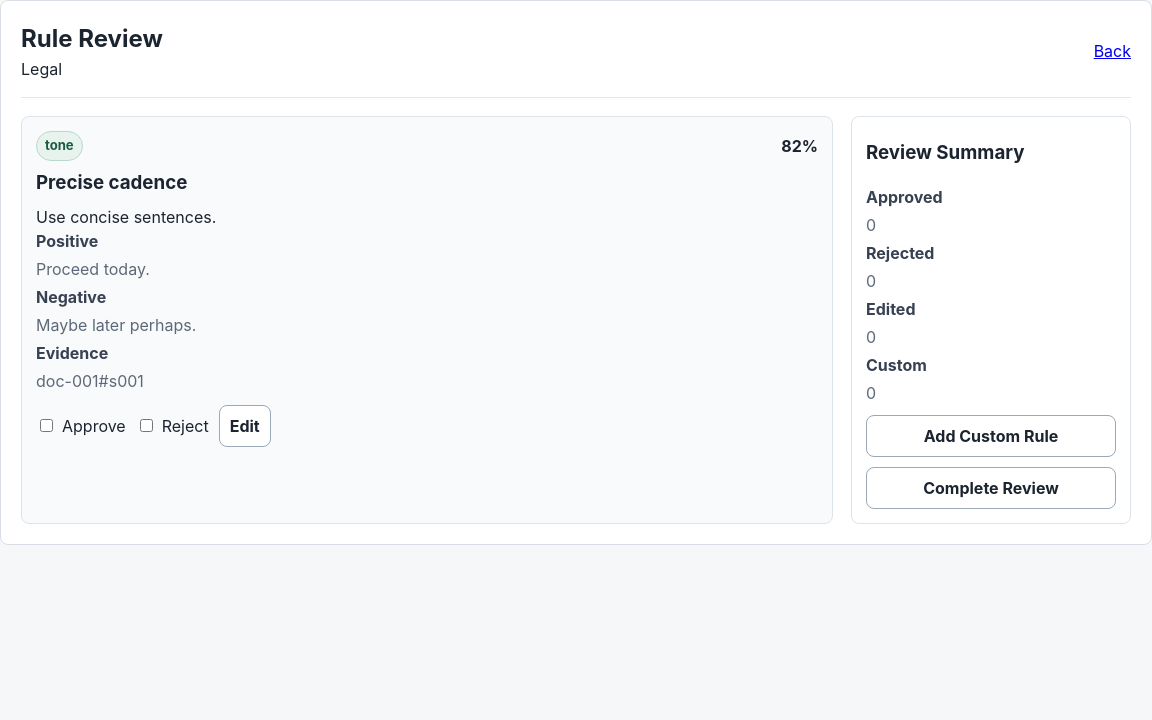
Test: RuleReviewPage › edit modal updates rule
Click the button "Edit" at (245, 426), box [219,405,271,447]
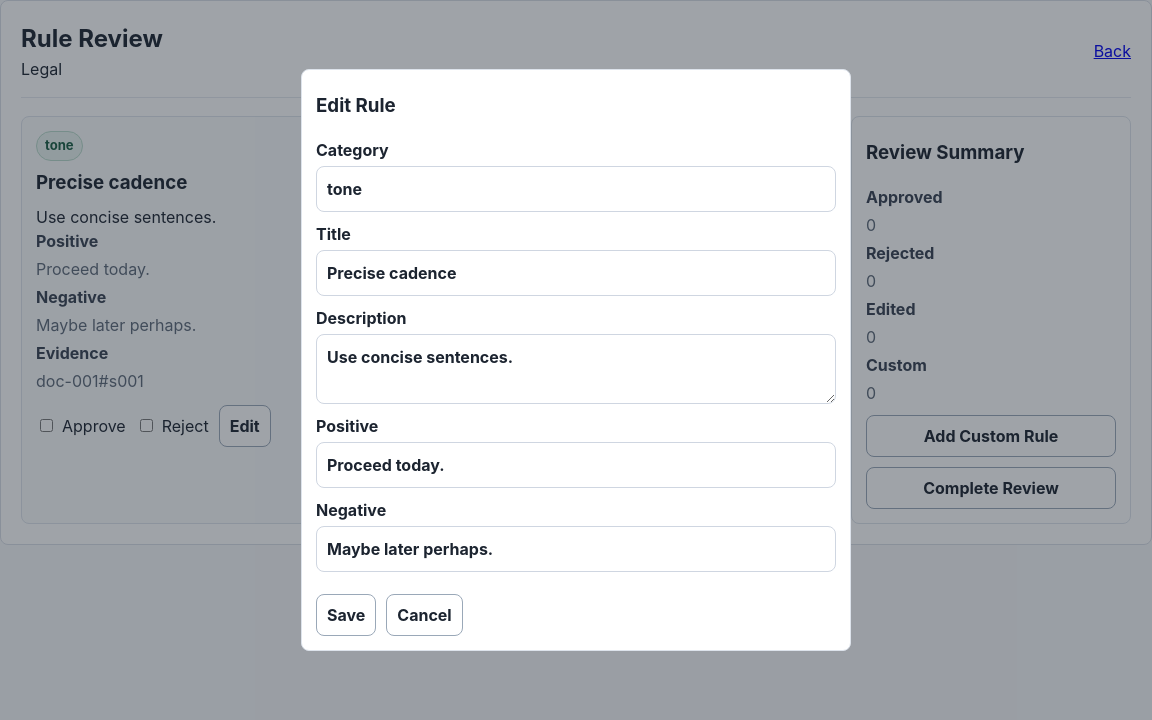
Replace the text in the field labelled "Title" with "Edited cadence" at (576, 273), box [316,250,836,296]
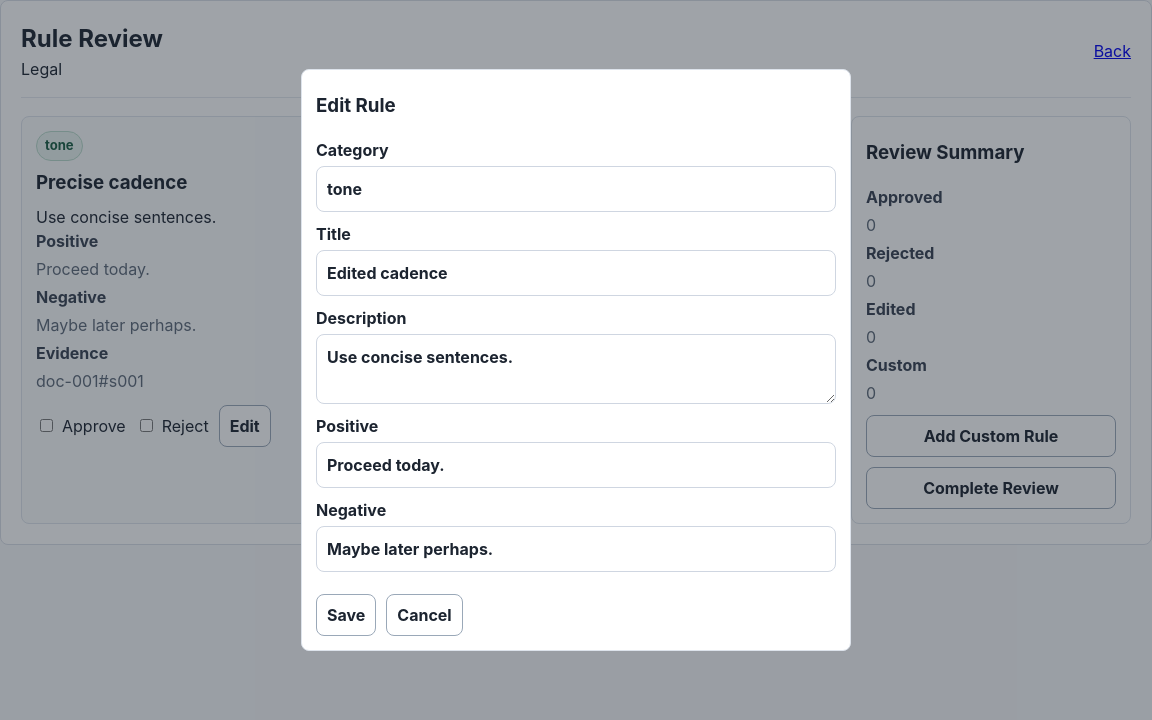
Click the button "Save" at (346, 615), box [316,594,376,636]
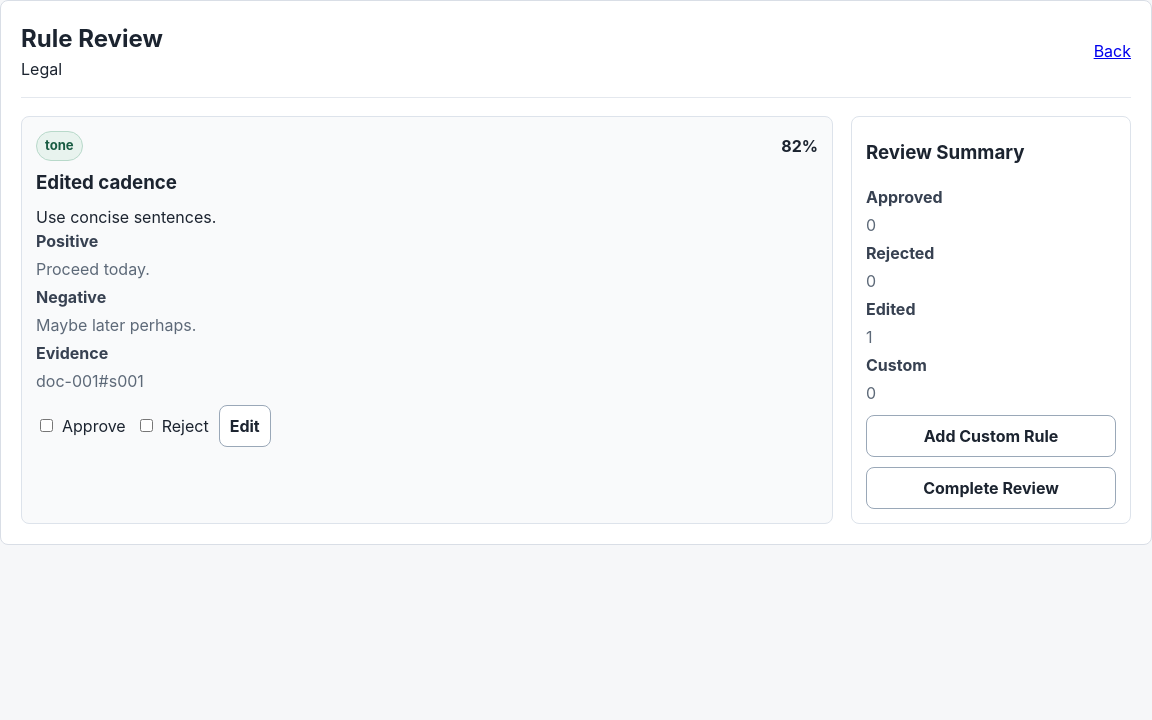
expect the text "Edited" is shown: met, box [866,299,916,319]
expect the heading "Edited cadence" is shown: met, box [36,171,177,194]
expect the text "1" is shown: met, box [866,327,872,347]
